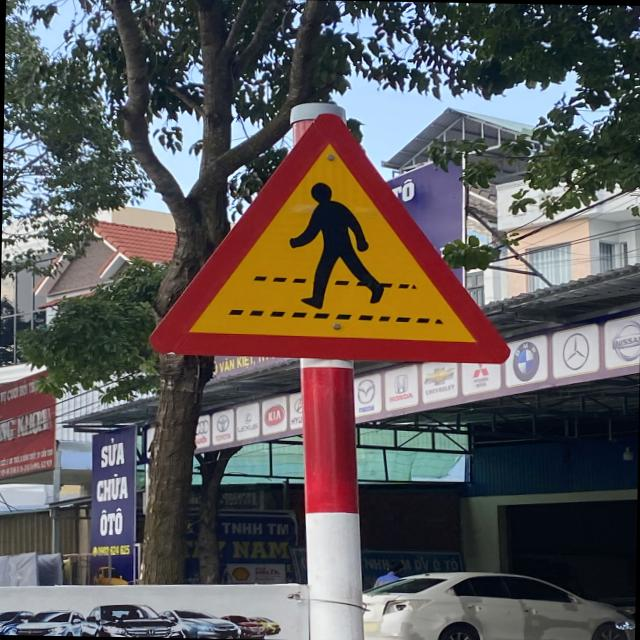Duong_Nguoi_Di_Bo_Sang_Ngang: (148, 112, 506, 360)
